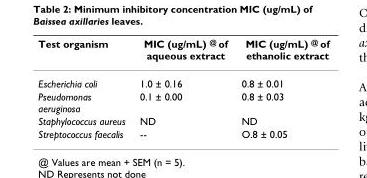table: (37, 37, 328, 139)
table column: (131, 37, 233, 139), (233, 37, 328, 139), (37, 37, 131, 139)
table column header: (37, 37, 328, 68)
table row: (37, 37, 328, 68), (37, 89, 328, 114), (37, 68, 328, 89), (37, 126, 328, 139), (37, 114, 328, 126)
